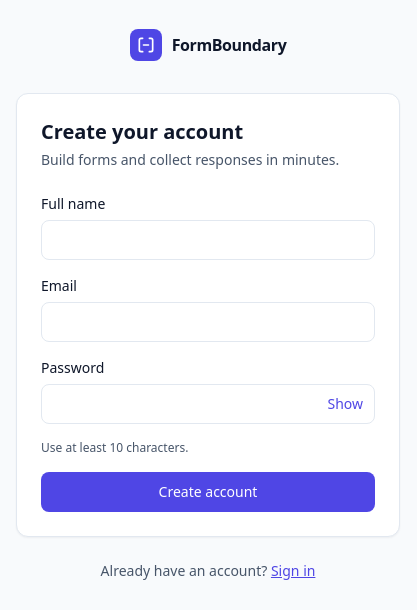
Test: register page › shows a field error for a duplicate email (409)
Type "Raja" into the field labelled "Full name" at {"x": 208, "y": 240}, box [41, 220, 375, 260]
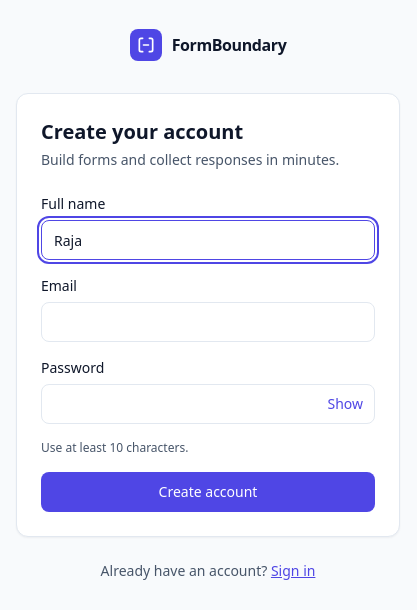
Type "raja@example.com" into the field labelled "Email" at {"x": 208, "y": 322}, box [41, 302, 375, 342]
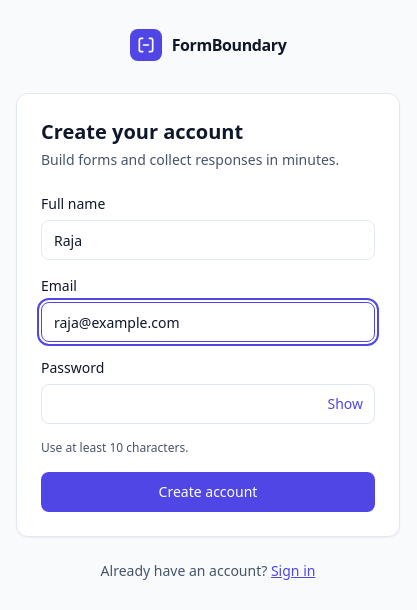
Type "correct-horse-battery" into the password field labelled "Password" at {"x": 208, "y": 404}, box [41, 384, 375, 424]
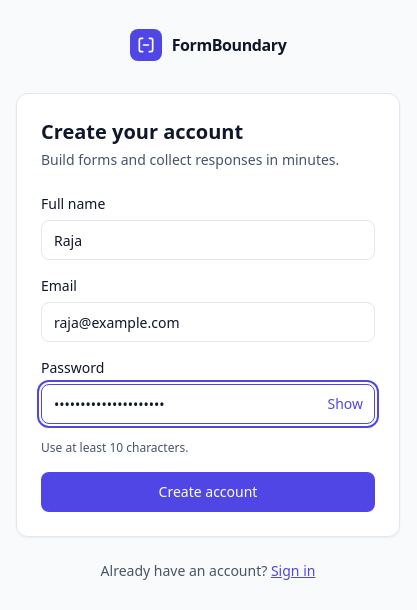
Click the button "Create account" at {"x": 208, "y": 492}, box [41, 472, 375, 512]
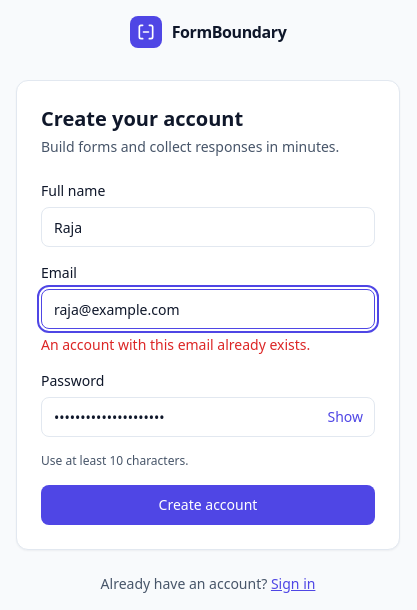
Check: the text "An account with this email already exists." is shown, box [41, 335, 310, 354]
